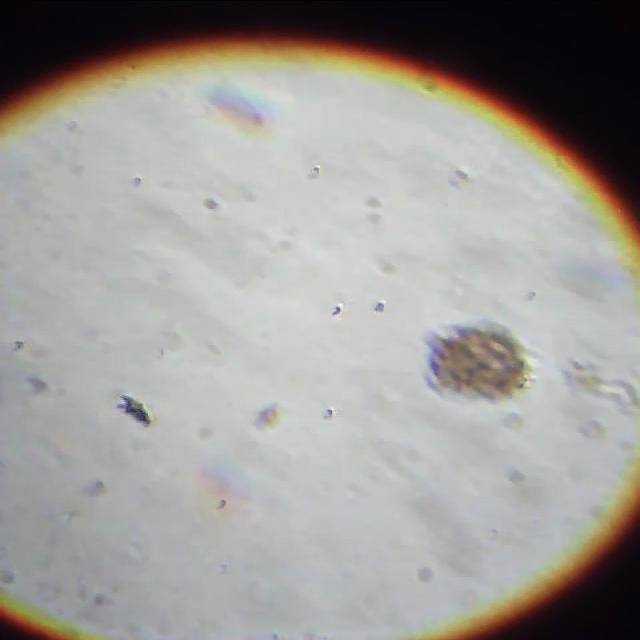alexandrium: (428, 316, 536, 406)
